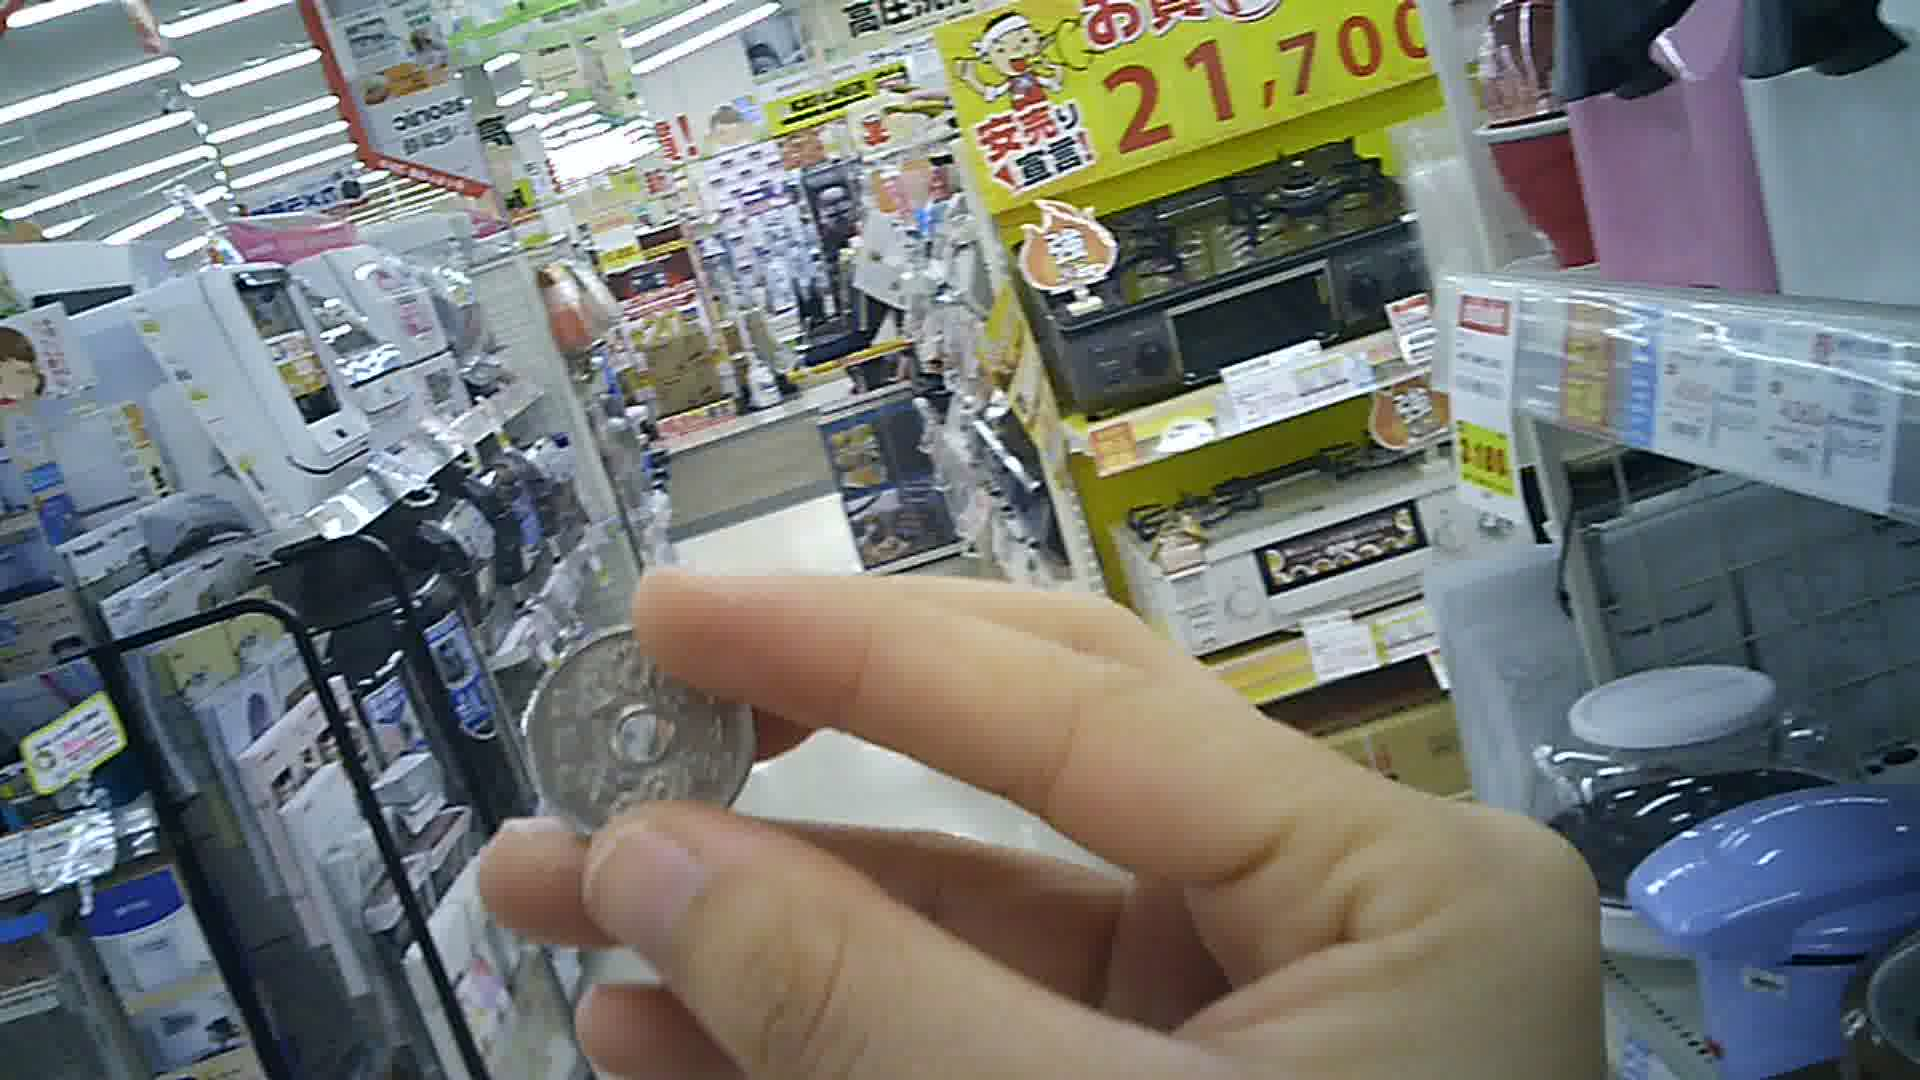50 Yen: (524, 616, 766, 839)
